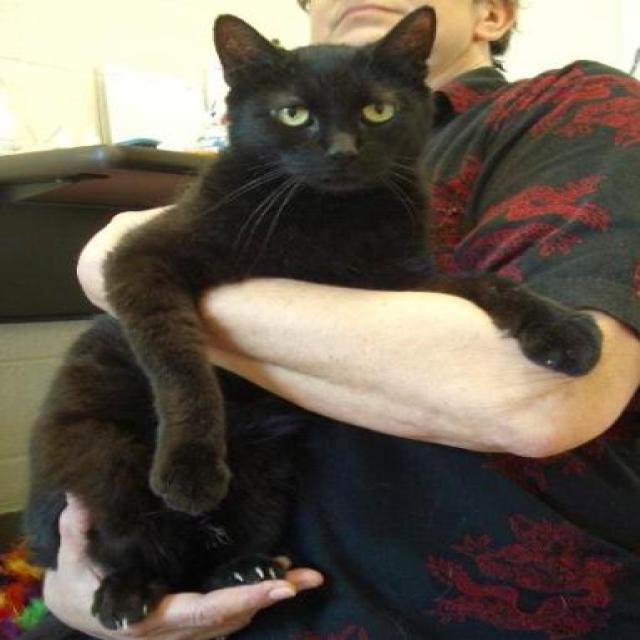Cats: (19, 4, 604, 631)
